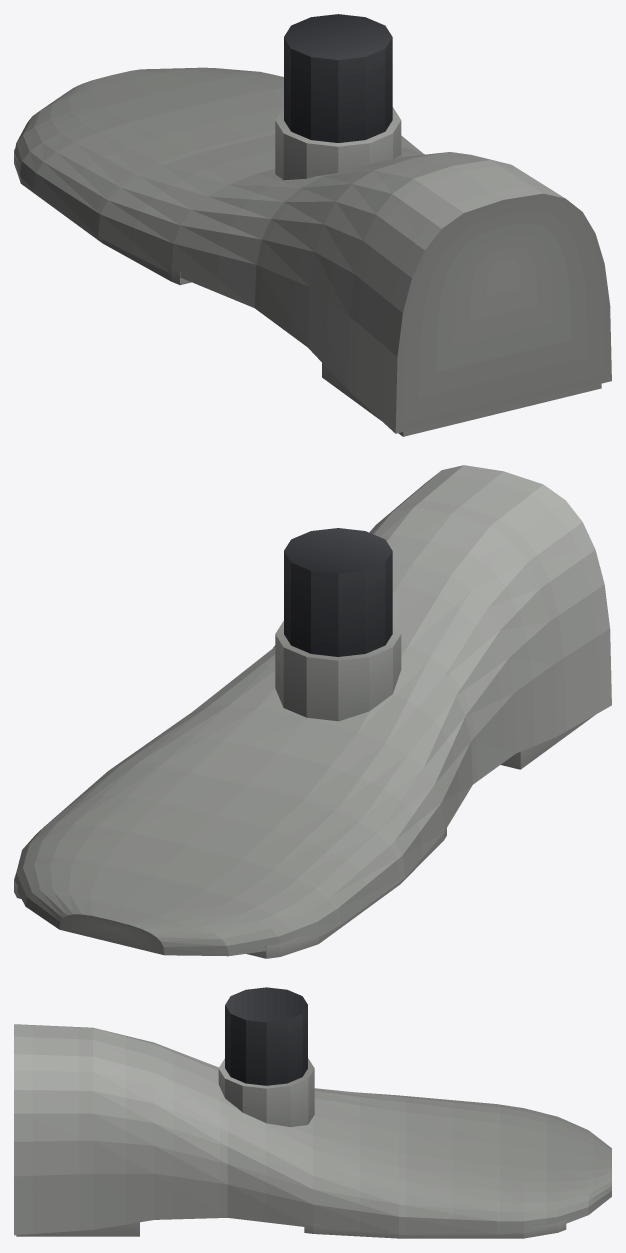
The model's file is streetlight_ltkc2.obj.
3 renders of one model, top to bottom at view 1: azimuth 30°, elevation 25°; view 2: azimuth 150°, elevation 25°; view 3: azimuth 270°, elevation 25°, orthographic. The views are drawn at different scales.
Visible parts, largest first — view 1: fixture; view 2: fixture; view 3: fixture.
Boxes of the visible parts, bbox=[...] form: fixture: bbox=[14, 14, 611, 436]; fixture: bbox=[14, 465, 611, 958]; fixture: bbox=[14, 987, 611, 1238].
Bounding box in the file's own units: 0.3875 × 0.3075 × 0.8551.
